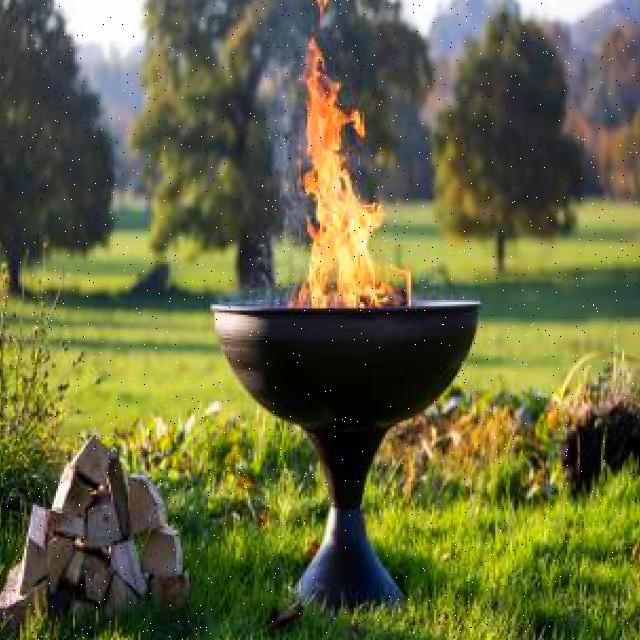fire: (303, 53, 386, 291)
smoke: (268, 26, 310, 232), (250, 230, 301, 304)
